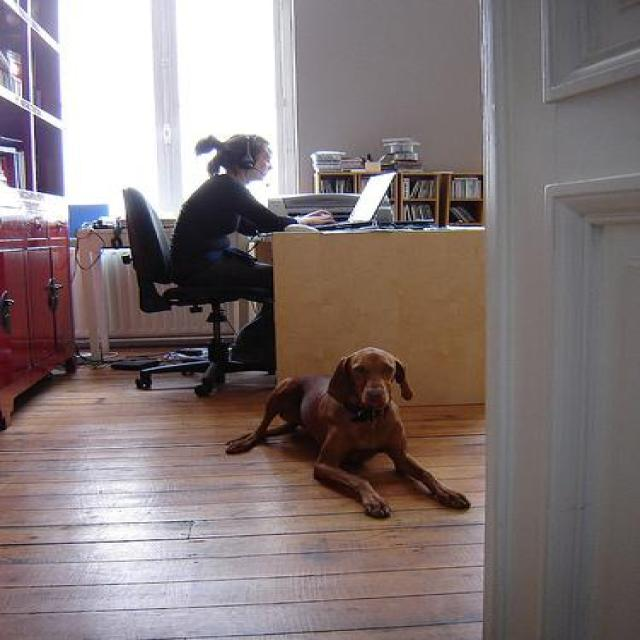vizsla: (217, 346, 472, 528)
